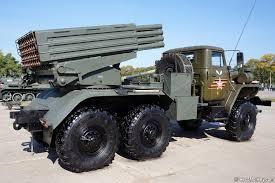MIL_SAM_TEL: (14, 22, 257, 172)
